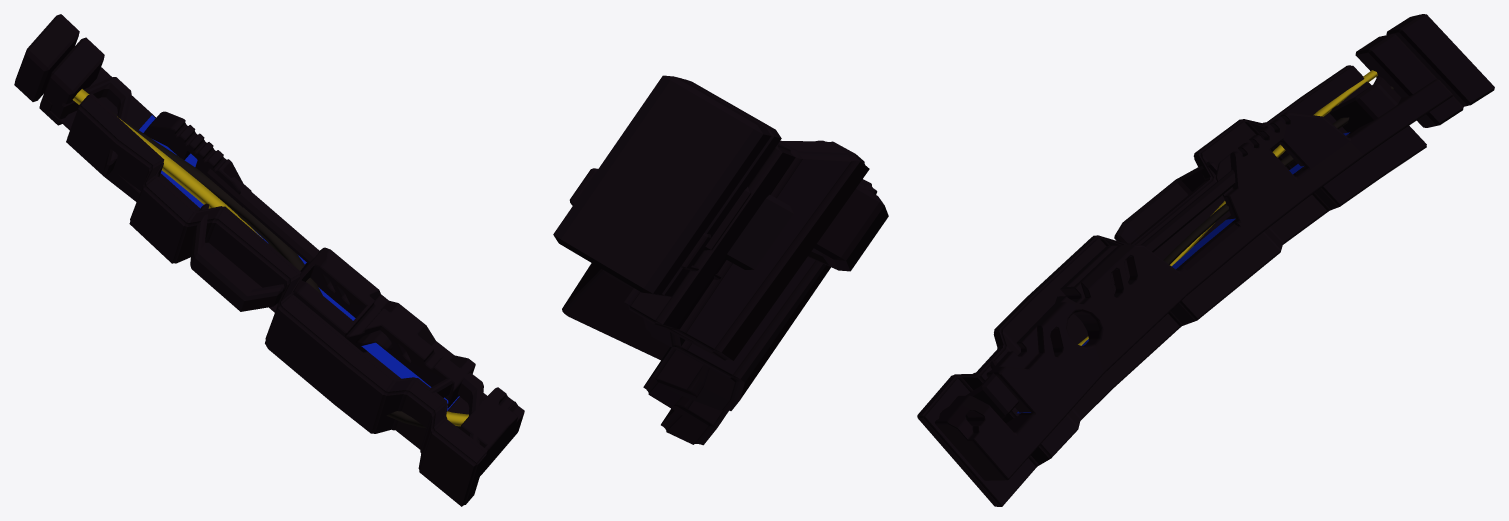
The model's file is sheet_019.obj.
3 renders of one model, left to right at view 1: azimuth 30°, elevation 25°; view 2: azimuth 150°, elevation 25°; view 3: azimuth 270°, elevation 25°, orthographic. The views are drawn at different scales.
Visible parts, largest first — view 1: sheet.019; view 2: sheet.019; view 3: sheet.019.
Part boxes in pixels (x1=…): sheet.019: x1=14, y1=14, x2=524, y2=506; sheet.019: x1=553, y1=75, x2=888, y2=445; sheet.019: x1=917, y1=14, x2=1494, y2=506.
Bounding box in the file's own units: 0.051 × 0.0633 × 0.0839.
